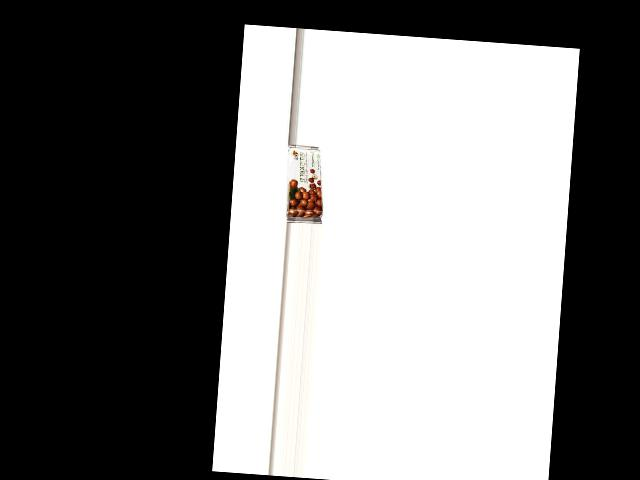chocolate: (285, 144, 328, 223)
